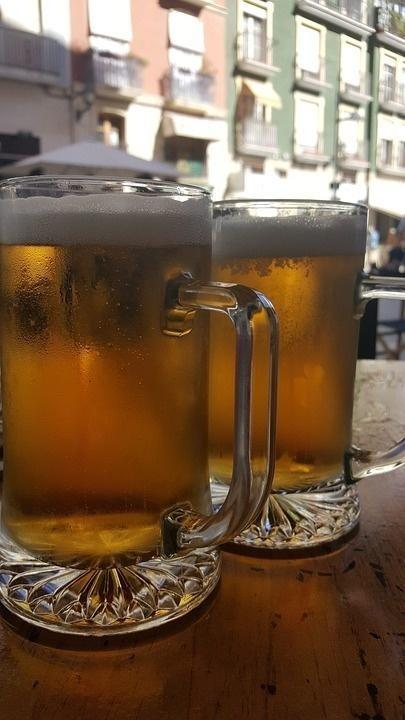glass-mug: (0, 179, 284, 638), (204, 191, 405, 553)
